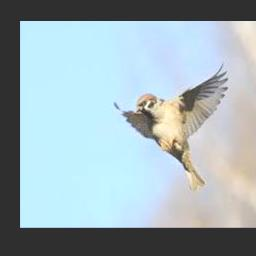Sparrow: (113, 62, 227, 191)
